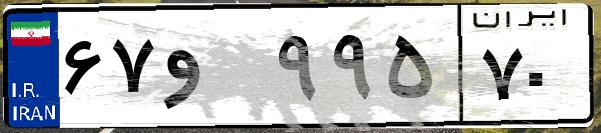0: (525, 38, 570, 115)
5: (385, 28, 445, 110)
6: (57, 26, 110, 100)
7: (475, 38, 525, 113), (110, 28, 158, 98)
9: (270, 28, 330, 110), (330, 28, 385, 110)
و: (158, 20, 270, 120)
